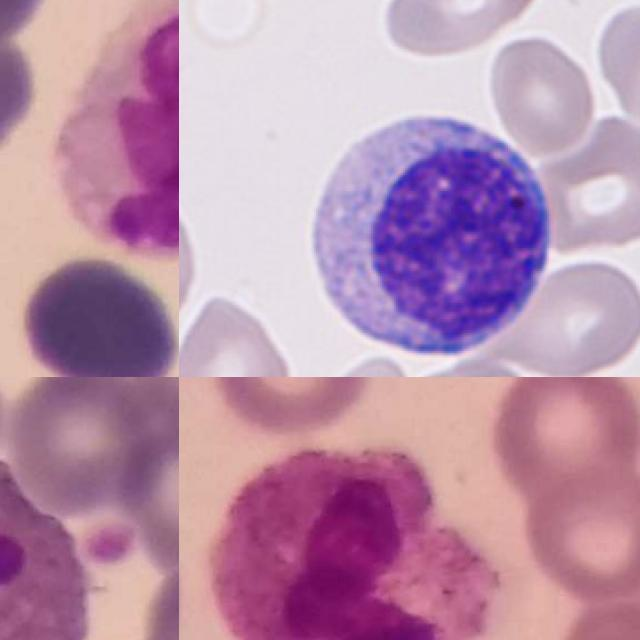Eosinophil: (0, 463, 88, 640)
Lymphocyte: (297, 102, 563, 371)
Monocyte: (60, 0, 179, 261)
Neutrophil: (206, 449, 494, 640)
RBC: (504, 257, 640, 377), (536, 111, 640, 258), (485, 35, 597, 159), (179, 286, 298, 377), (376, 0, 547, 59), (591, 0, 640, 134), (179, 175, 202, 342), (273, 350, 408, 377)
